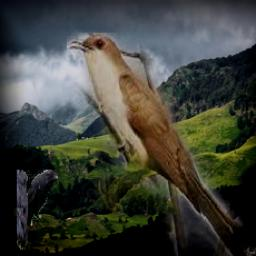Crow: (18, 170, 59, 250)
Cuckoo: (67, 34, 256, 256)
